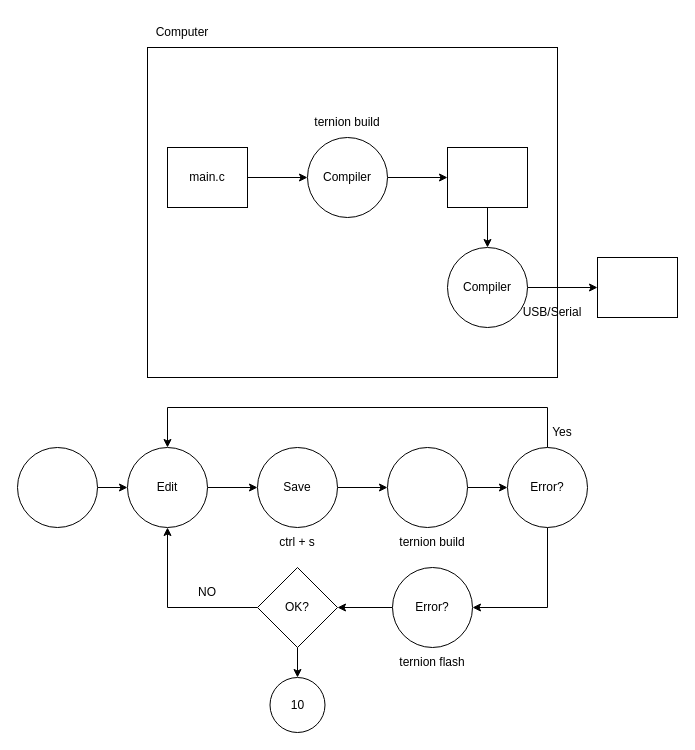
This 695x750 diagram has some shape labels left out. Each missing label, with the centre of its shape:
"*.hex" goes at point (487, 177).
"Compile" goes at point (427, 487).
"MCU" goes at point (637, 287).
"New project" goes at point (57, 487).
